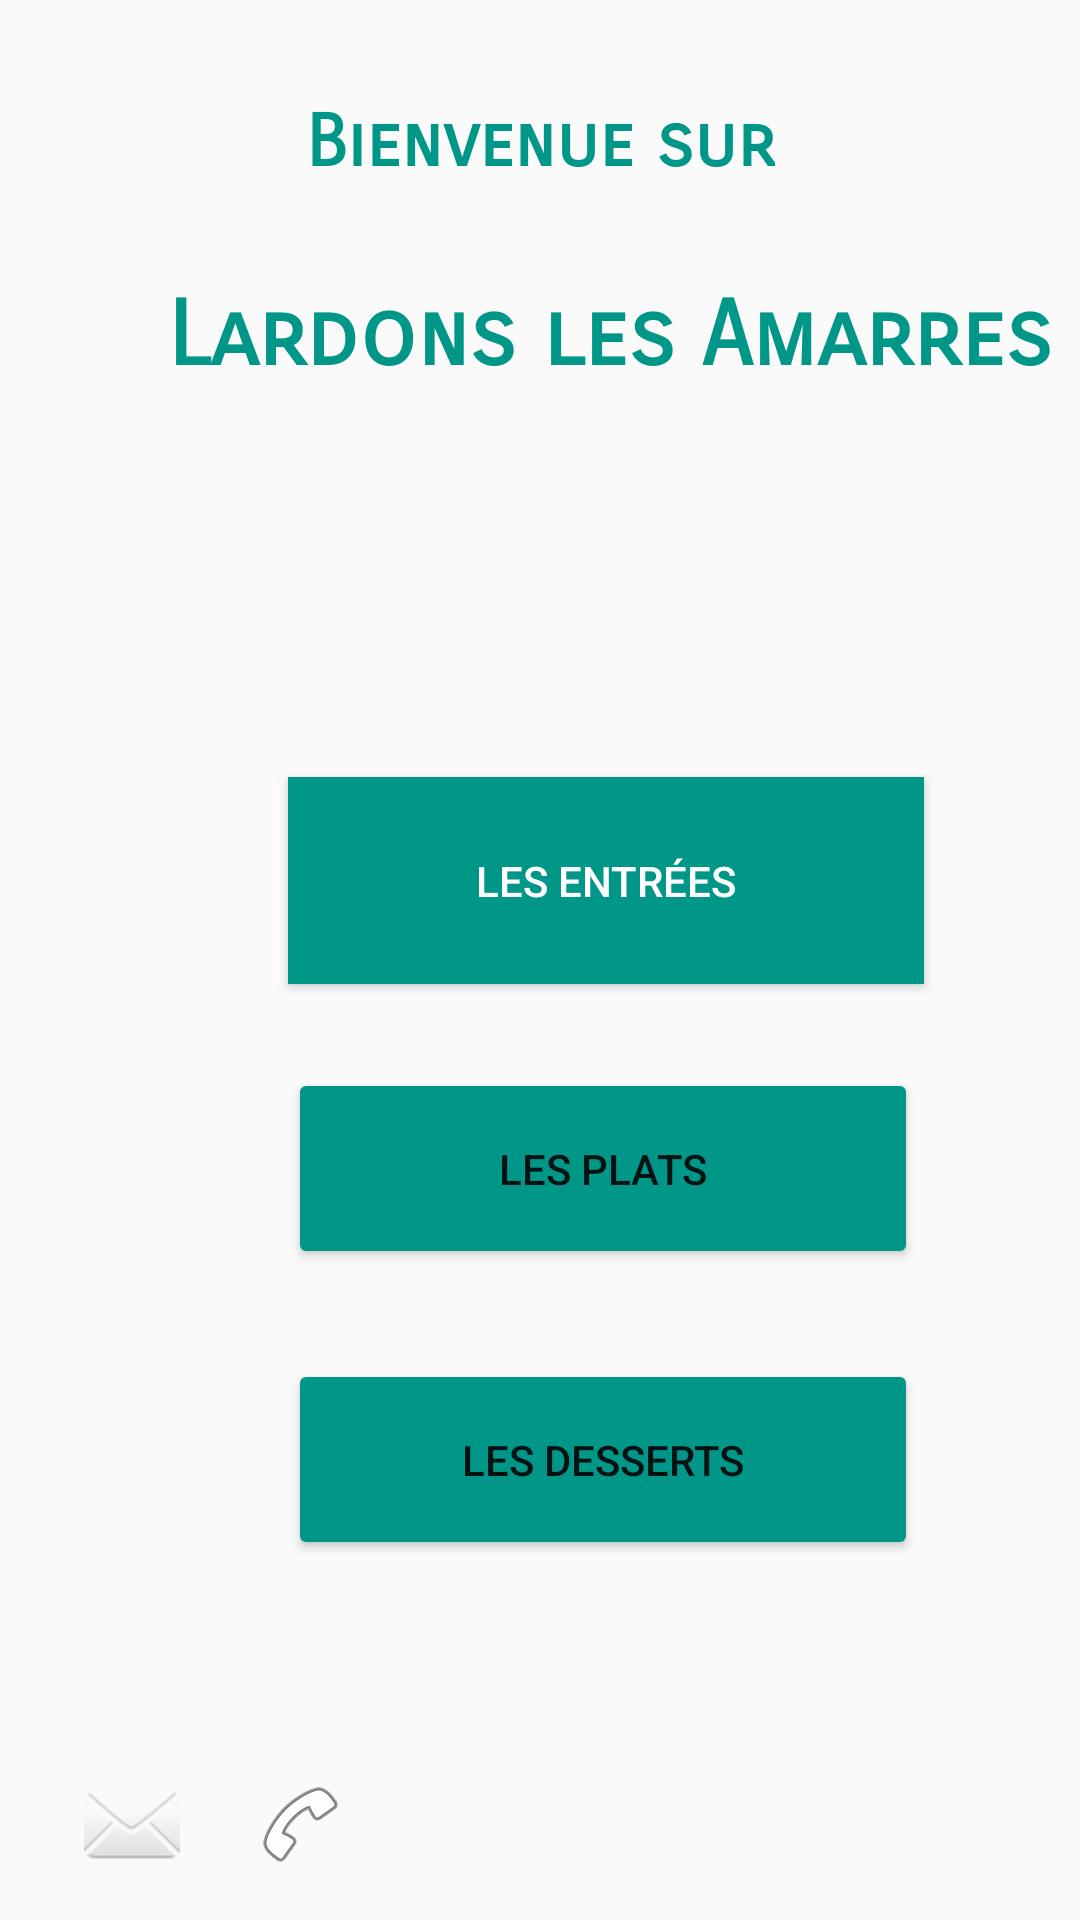

Point at icon controls on the screen. Image size 1080*1920, points as point (x, y).
call: point (300, 1824)
email: point (132, 1826)
